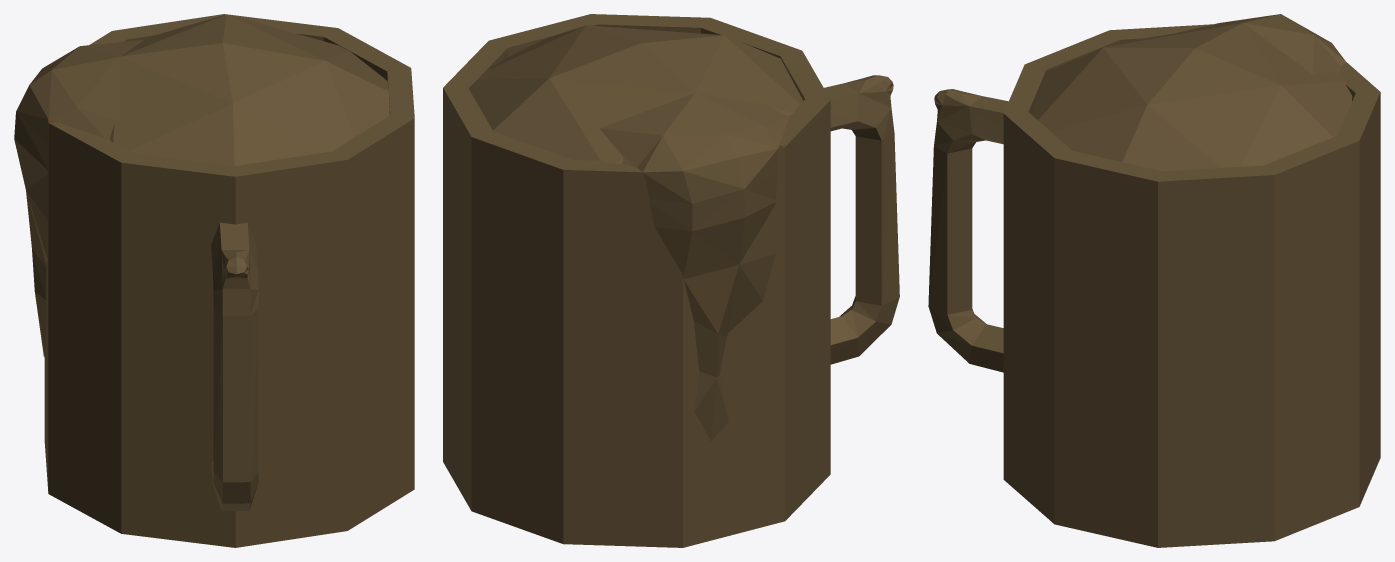
Rendered from ITFO_BEER.OBJ.
3 renders of one model, left to right at view 1: azimuth 30°, elevation 25°; view 2: azimuth 150°, elevation 25°; view 3: azimuth 270°, elevation 25°, orthographic. The views are drawn at different scales.
Visible parts, largest first — view 1: ITFO_BEER; view 2: ITFO_BEER; view 3: ITFO_BEER.
Boxes of the visible parts, left/top/right/bottom form: ITFO_BEER: left=14, top=14, right=414, bottom=547; ITFO_BEER: left=443, top=14, right=899, bottom=547; ITFO_BEER: left=928, top=14, right=1380, bottom=547.
Bounding box in the file's own units: 0.1574 × 0.1941 × 0.1902.
